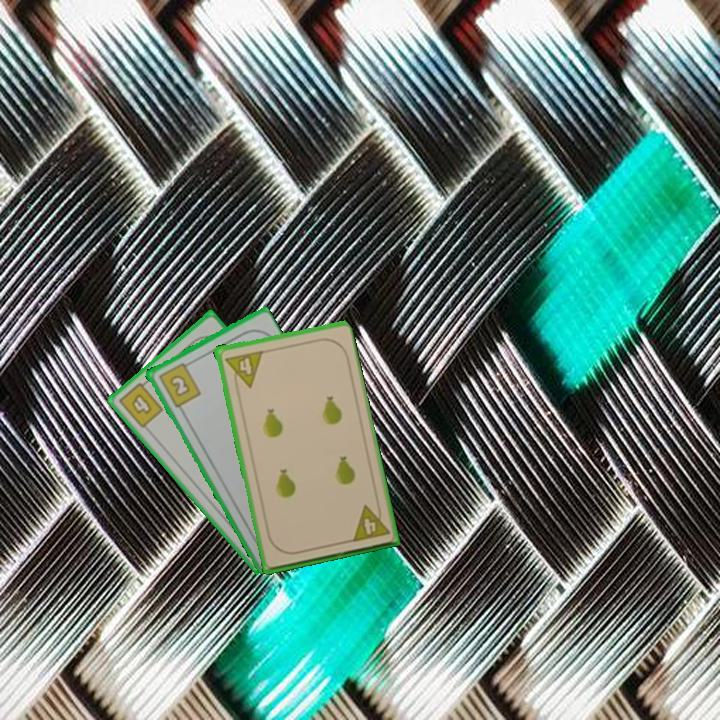2b: (155, 358, 203, 410)
4b: (115, 376, 166, 431)
4p: (348, 498, 392, 544), (220, 347, 264, 392)
